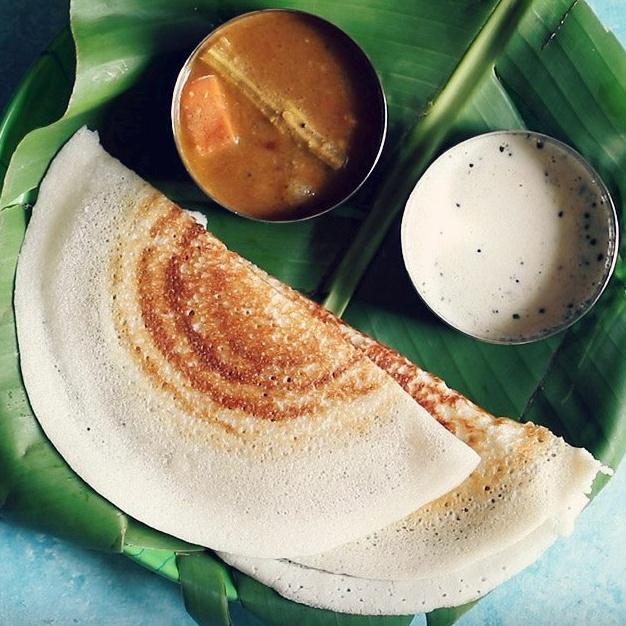dosa: (9, 118, 624, 615)
